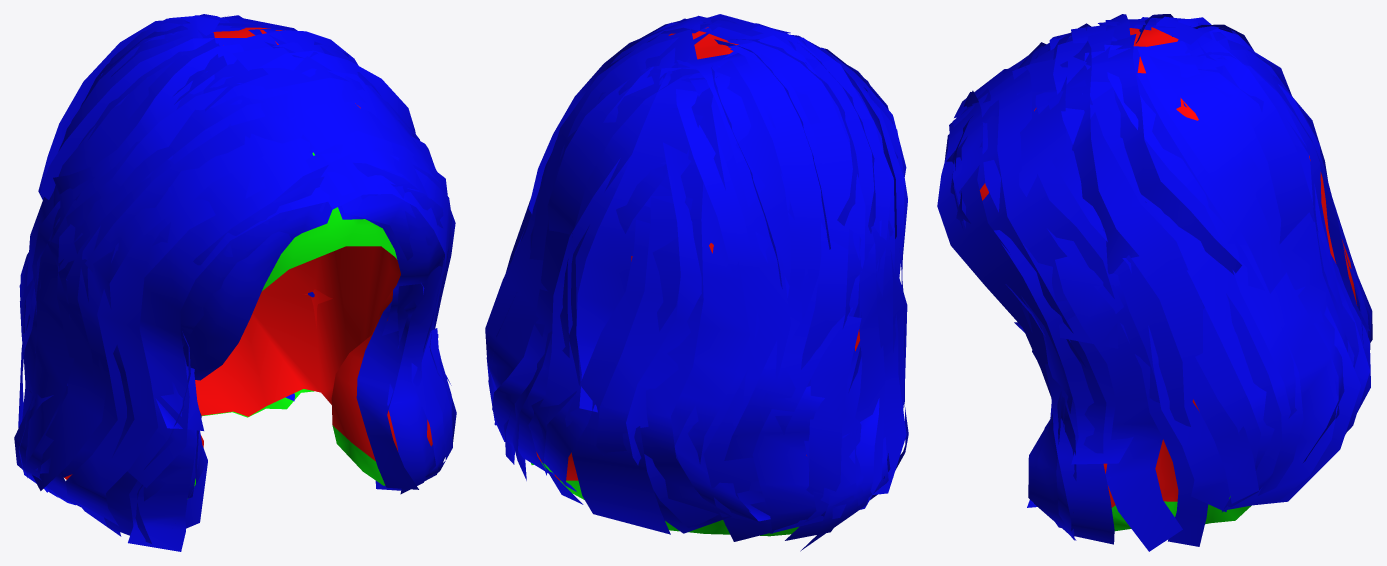
The model's file is hair_008.obj.
3 views of the same model, side by side, from view 1: azimuth 30°, elevation 25°; view 2: azimuth 150°, elevation 25°; view 3: azimuth 270°, elevation 25° (orthographic). The views are drawn at different scales.
Size of the model in its own units: 24.6 by 29.13 by 25.81.
